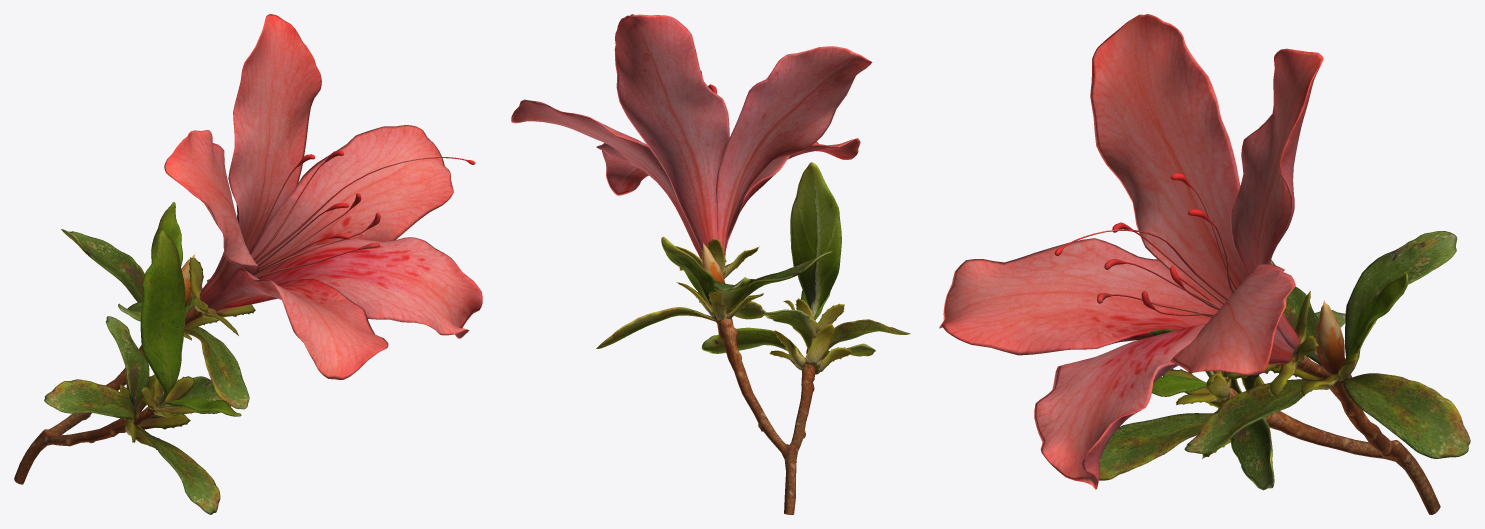
Rendered from azalea-bloom.glb.
3 renders of one model, left to right at view 1: azimuth 30°, elevation 25°; view 2: azimuth 150°, elevation 25°; view 3: azimuth 270°, elevation 25°, orthographic. The views are drawn at different scales.
Parts seen in each view (by area): view 1: AZALEA_BLOOM, AZALEA_BRANCH; view 2: AZALEA_BLOOM, AZALEA_BRANCH; view 3: AZALEA_BLOOM, AZALEA_BRANCH.
Part boxes in pixels (x1,y1,x2,y2): AZALEA_BLOOM: (164, 14, 482, 379); AZALEA_BRANCH: (14, 151, 475, 514); AZALEA_BLOOM: (511, 14, 872, 259); AZALEA_BRANCH: (596, 14, 910, 514); AZALEA_BLOOM: (939, 14, 1323, 489); AZALEA_BRANCH: (1055, 173, 1470, 514).
Bounding box in the file's own units: 4.69 × 4.91 × 4.01.
1 material, 1 textured.
